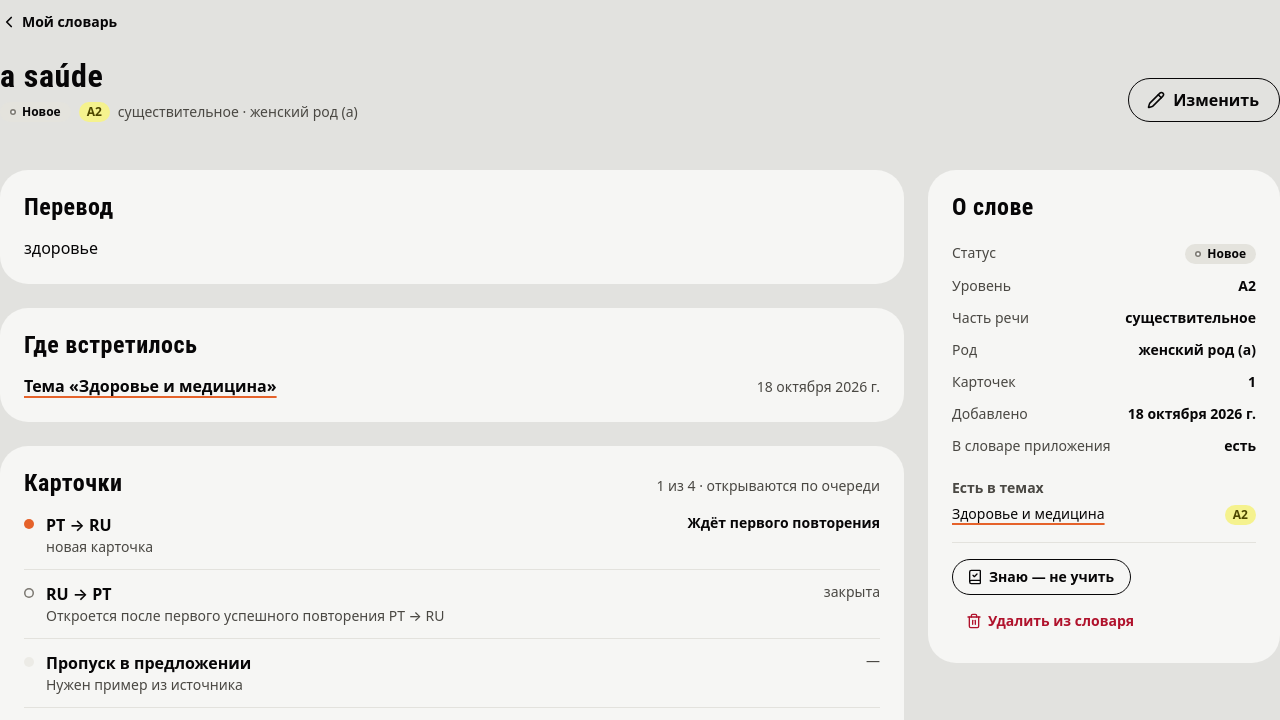
it: WordPage › «Изменить» opens the editor; saving updates the page
Click the button "Изменить". click: (1204, 100)
box: [1128,78,1279,122]
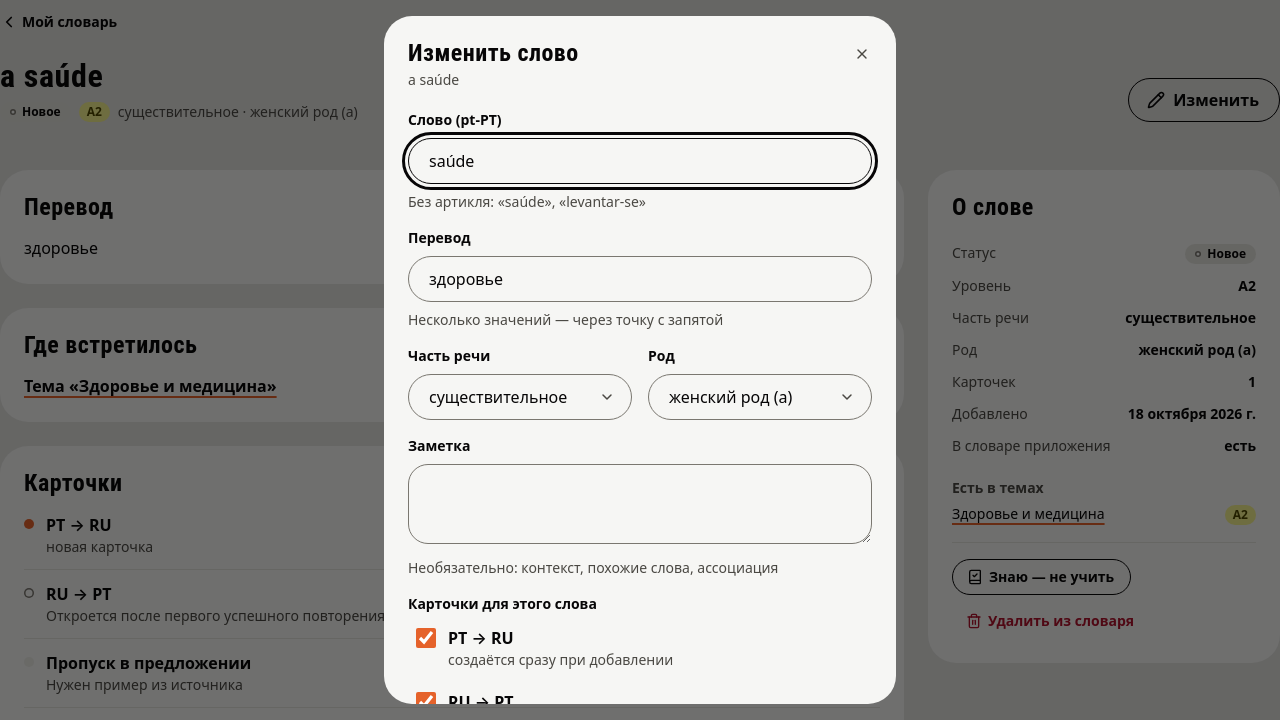
Replace the text in the field labelled "Перевод" with "здоровье; самочувствие". click: (640, 279)
box: [408,256,872,302]
(page scrolled)
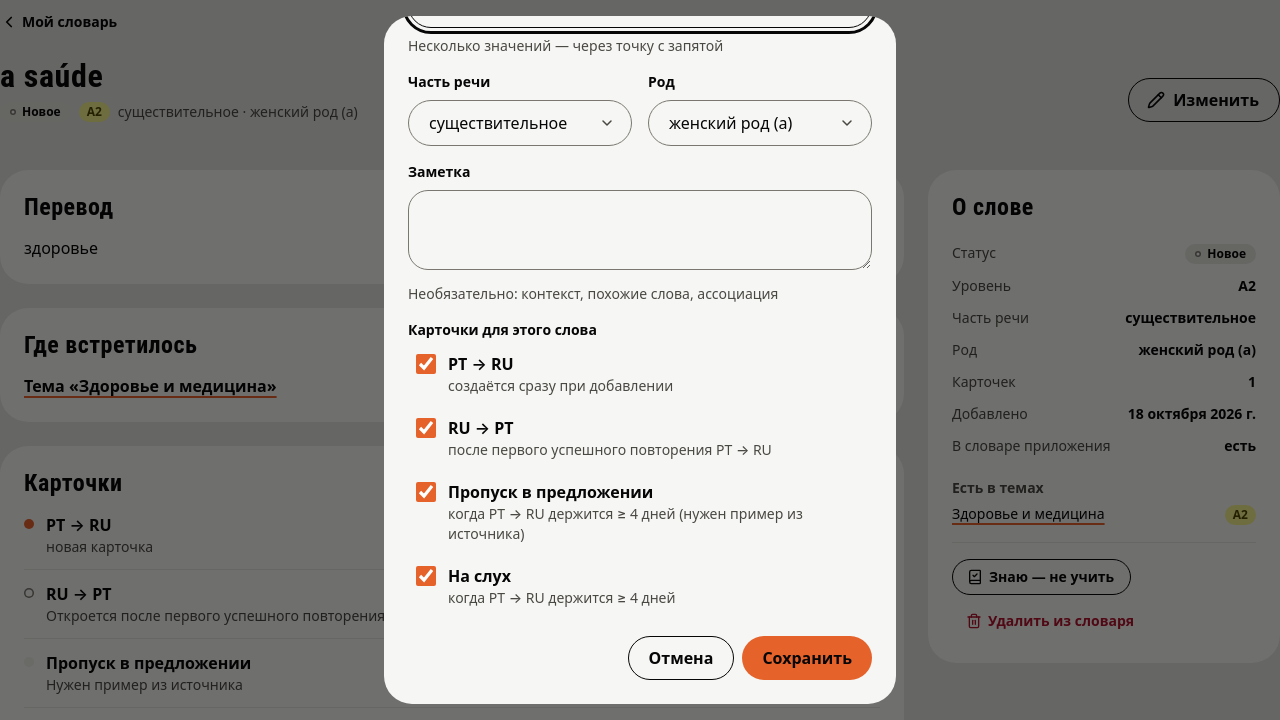
Click the button "Сохранить". click: (807, 658)
box: [742,636,872,680]
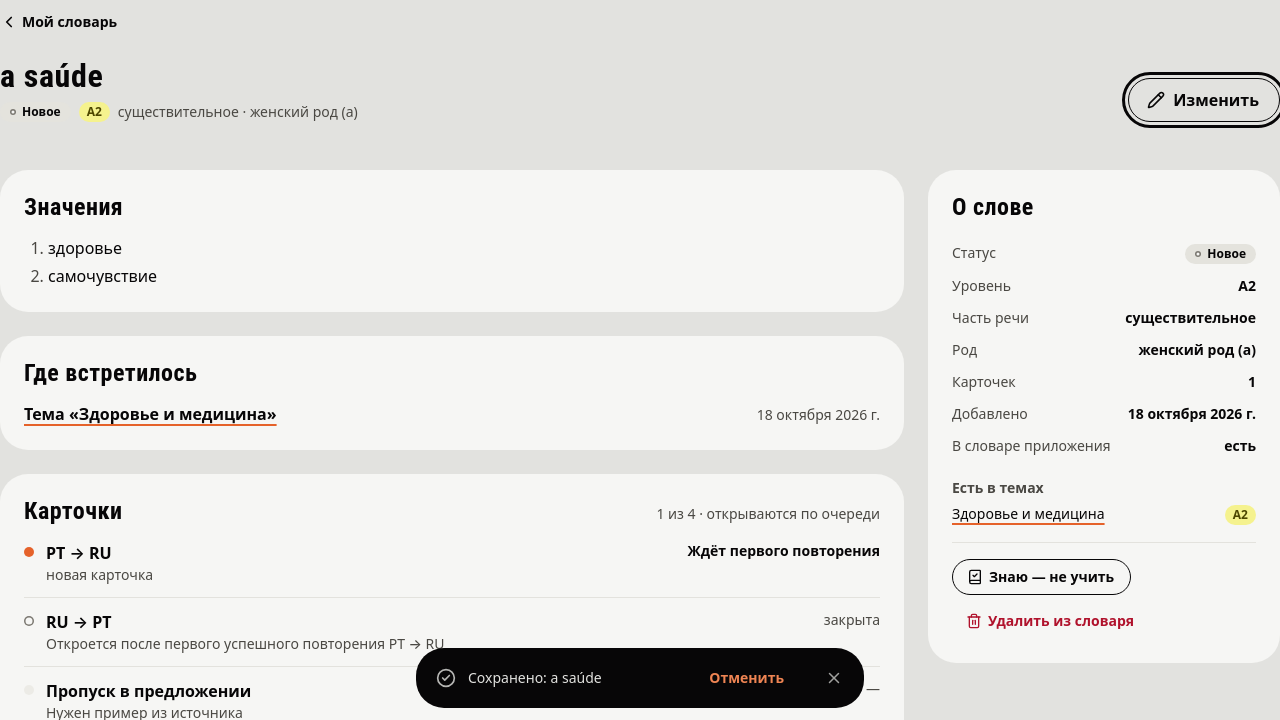
Now the element "Значения" shows "самочувствие", box [48,265,157,287]
